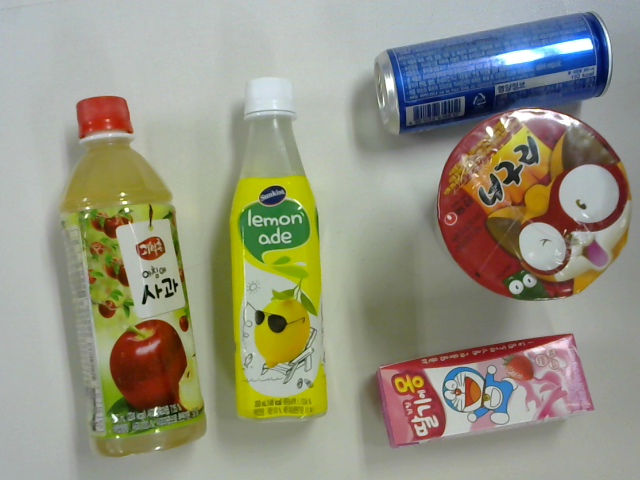Morning_Apple_500ml: (59, 90, 217, 450)
Pepsi_Cola_Can_250ml: (373, 16, 617, 126)
Raccoon: (417, 116, 629, 308)
Strawberry_E_Mong: (381, 336, 589, 452)
Sunkist_Lemonaid_Pet: (219, 80, 335, 438)
